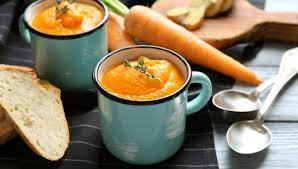carrot: (118, 2, 262, 88)
